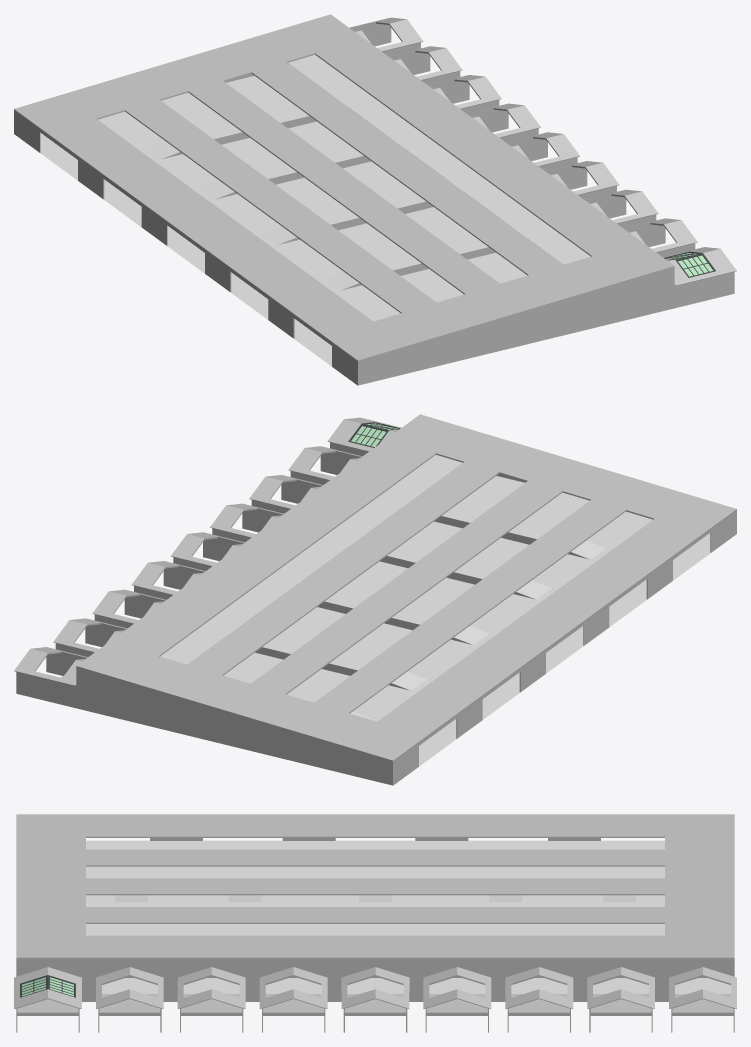
File: Coal_werehouse.fbx
3 views of the same model, one above another, from view 1: azimuth 30°, elevation 25°; view 2: azimuth 150°, elevation 25°; view 3: azimuth 270°, elevation 25° (orthographic). The views are drawn at different scales.
Parts seen in each view (by area): view 1: Plane.164, Plane.082, Plane.094; view 2: Plane.164, Plane.082, Plane.094; view 3: Plane.164, Plane.082, Plane.094.
Part boxes in pixels (x1=…): Plane.164: x1=14, y1=14, x2=674, y2=361; Plane.082: x1=14, y1=17, x2=736, y2=385; Plane.094: x1=664, y1=251, x2=715, y2=277; Plane.164: x1=76, y1=414, x2=736, y2=761; Plane.082: x1=14, y1=417, x2=736, y2=785; Plane.094: x1=348, y1=422, x2=400, y2=447; Plane.164: x1=16, y1=814, x2=734, y2=959; Plane.082: x1=14, y1=838, x2=736, y2=1032; Plane.094: x1=20, y1=975, x2=75, y2=997.
Bounding box in the file's own units: 8369 × 897 × 13267.
